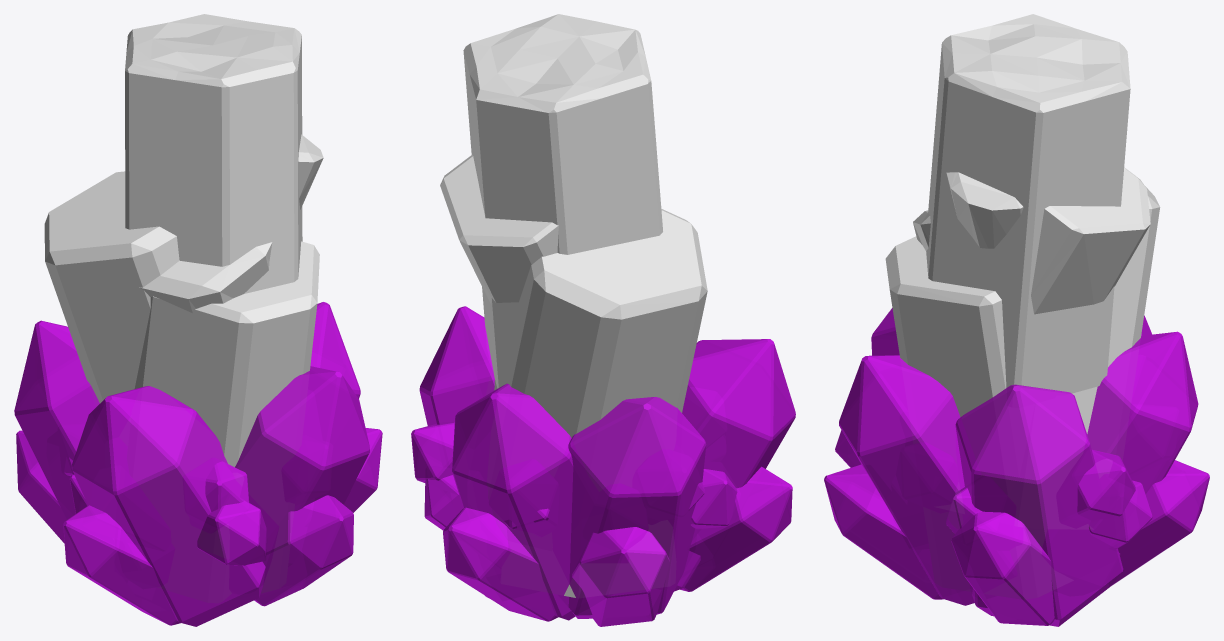
Rendered from Basic Tower.fbx.
The picture shows the model from 3 angles, left to right: view 1: azimuth 30°, elevation 25°; view 2: azimuth 150°, elevation 25°; view 3: azimuth 270°, elevation 25°; orthographic projection. The views are drawn at different scales.
Parts seen in each view (by area): view 1: Cylinder.002; view 2: Cylinder.002; view 3: Cylinder.002.
Part boxes in pixels (x1,y1,x2,y2): Cylinder.002: (14, 14, 382, 626); Cylinder.002: (411, 14, 795, 626); Cylinder.002: (824, 14, 1209, 626).
Bounding box in the file's own units: 549 × 852 × 546.
